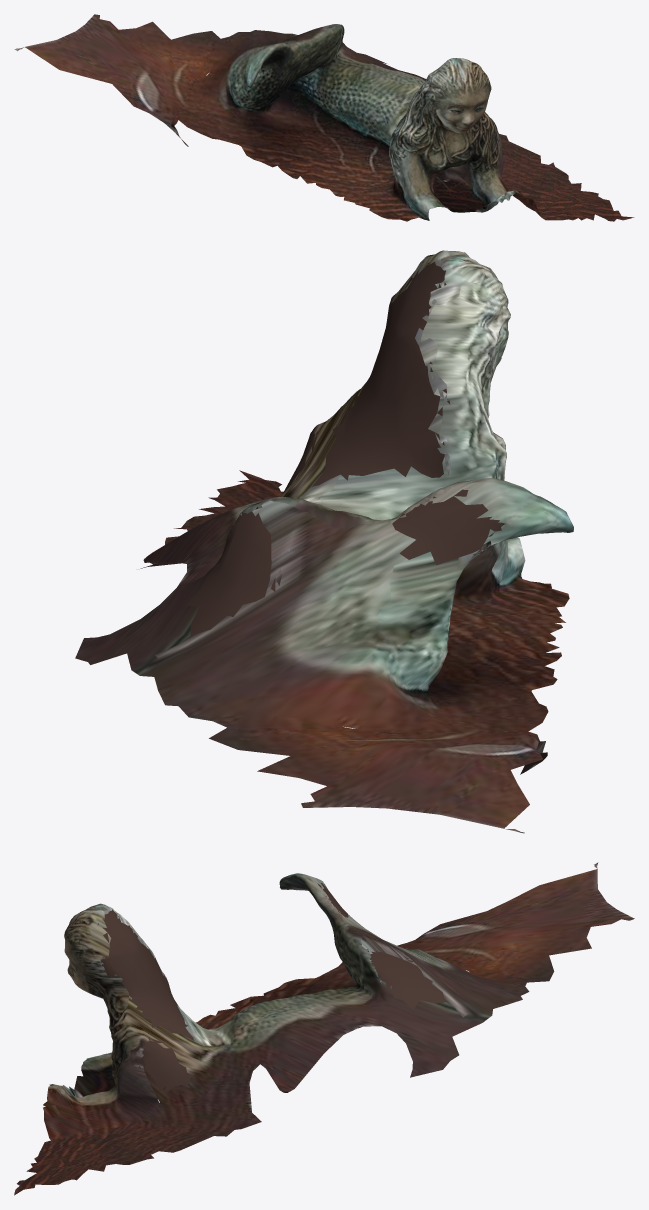
Rendered from meermin2.obj.
3 renders of one model, top to bottom at view 1: azimuth 30°, elevation 25°; view 2: azimuth 150°, elevation 25°; view 3: azimuth 270°, elevation 25°, orthographic. The views are drawn at different scales.
Size of the model in its own units: 26.03 by 10.9 by 30.01.
2 materials, 2 textured.
